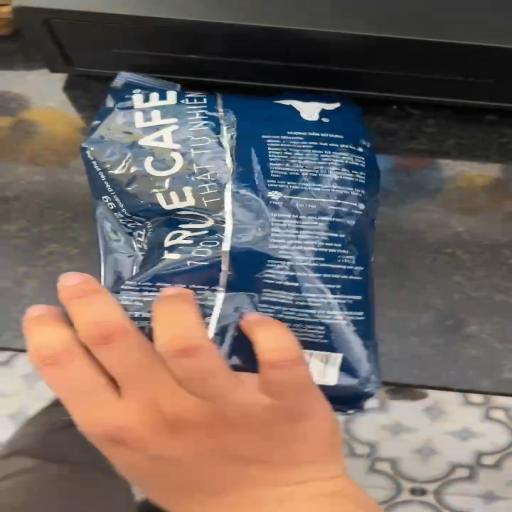cafe_hat: (81, 72, 379, 411)
